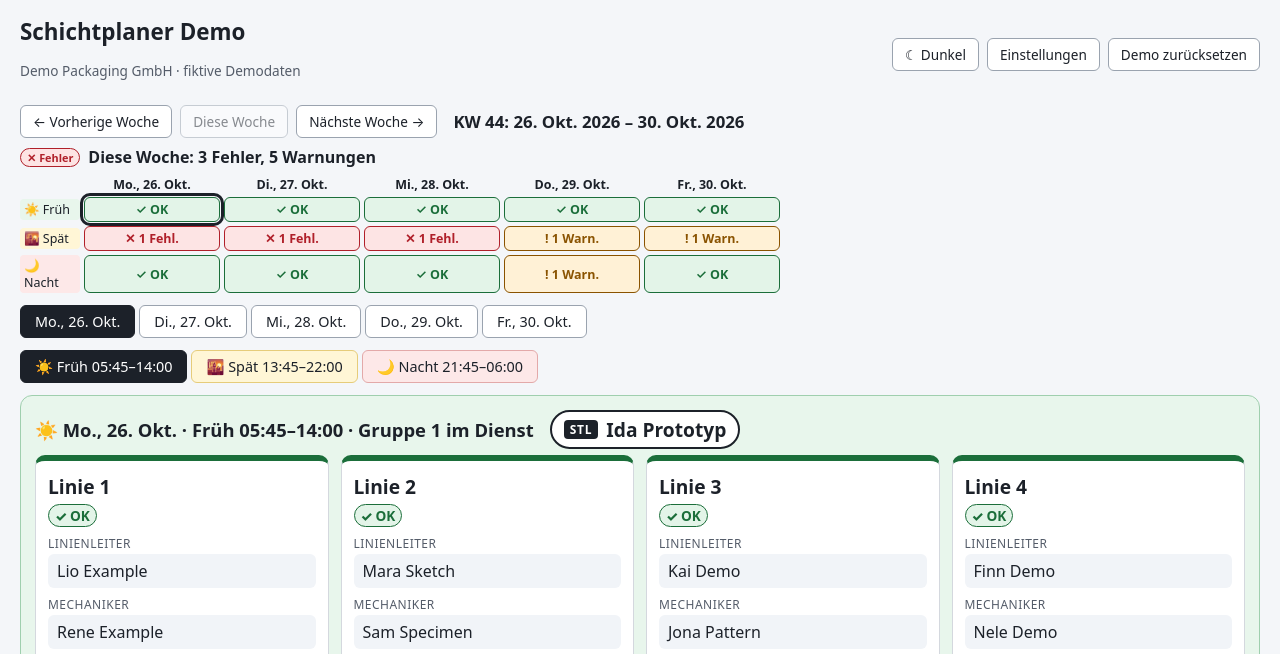
Test: empty slots and cover › reset clears accepted covers and closes the panel
This screenshot has width=1280, height=654.
Click the button with aria-label ": Fehler," at (152, 239), box x1=84 y1=226 x2=220 y2=251
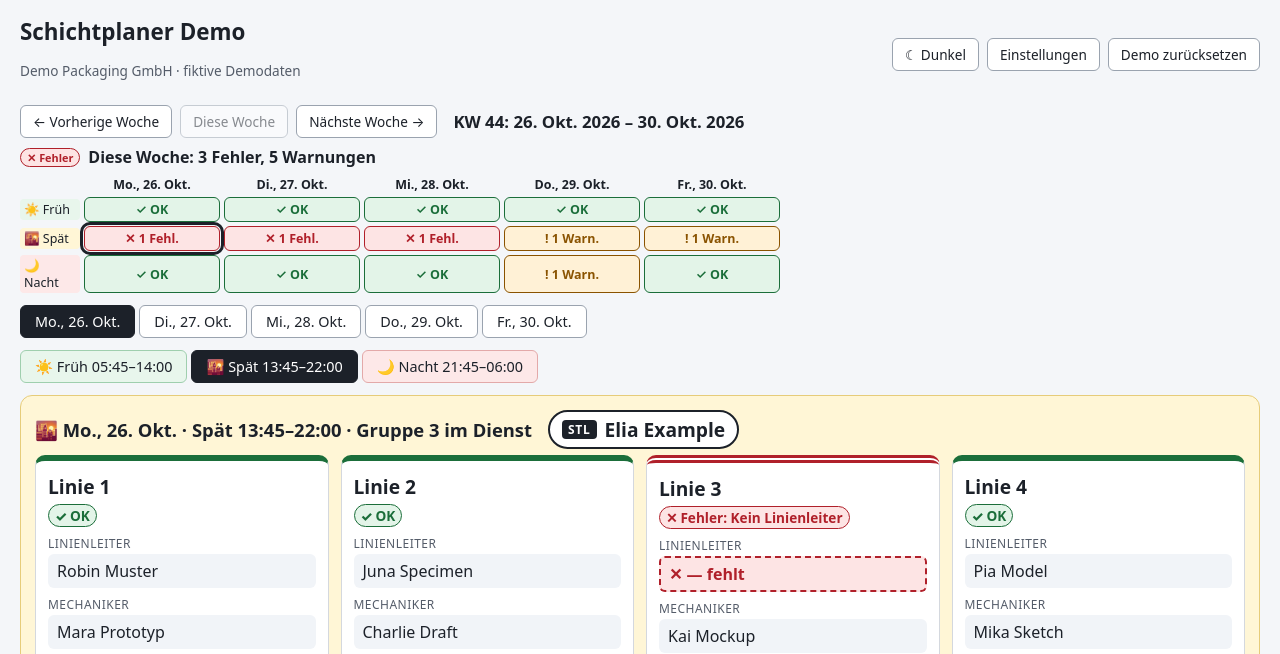
Click the button with aria-label "Vertretung finden" at (716, 574), box x1=659 y1=556 x2=926 y2=592
(page scrolled)
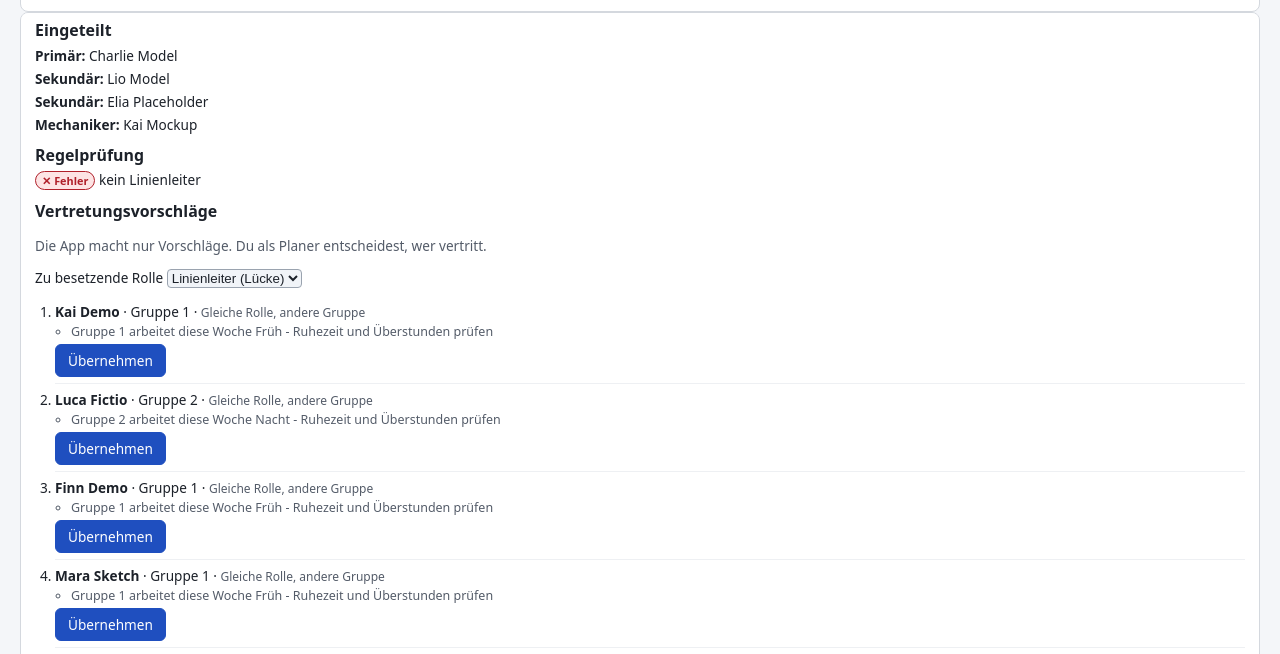
Click the button " übernehmen" below "Kai Demo" at (110, 360), box x1=55 y1=344 x2=166 y2=377
(page scrolled)
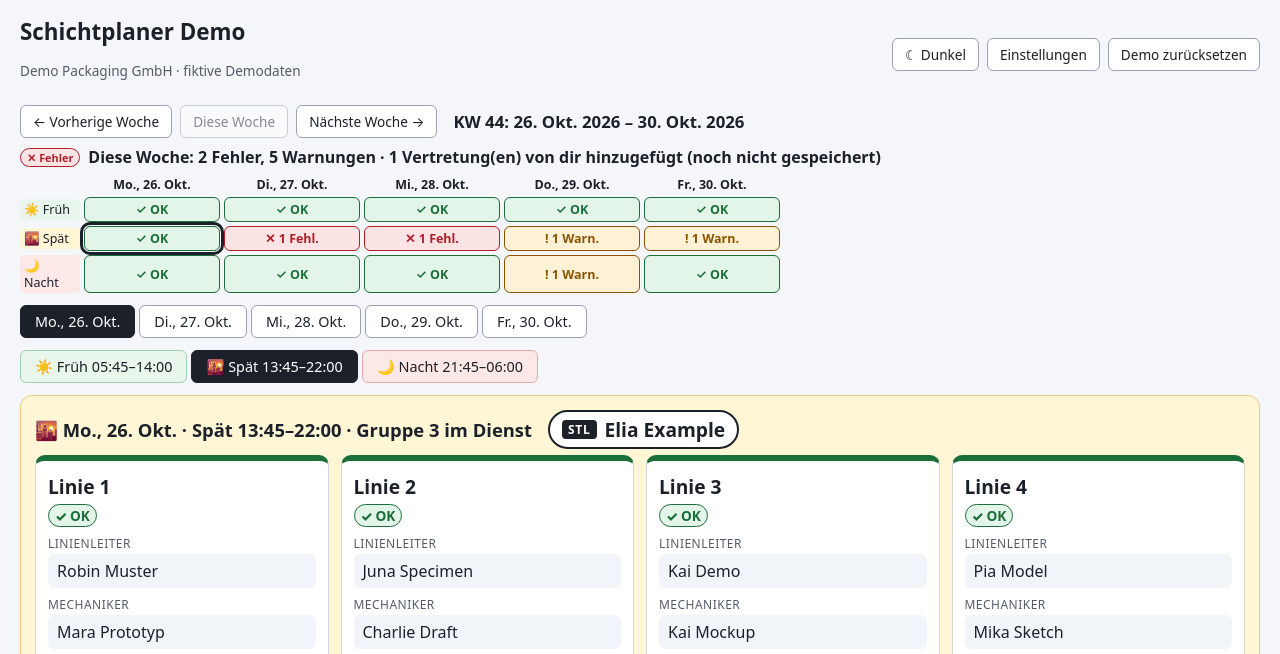
Click the button "Demo zurücksetzen" at (1184, 55), box x1=1108 y1=38 x2=1260 y2=71
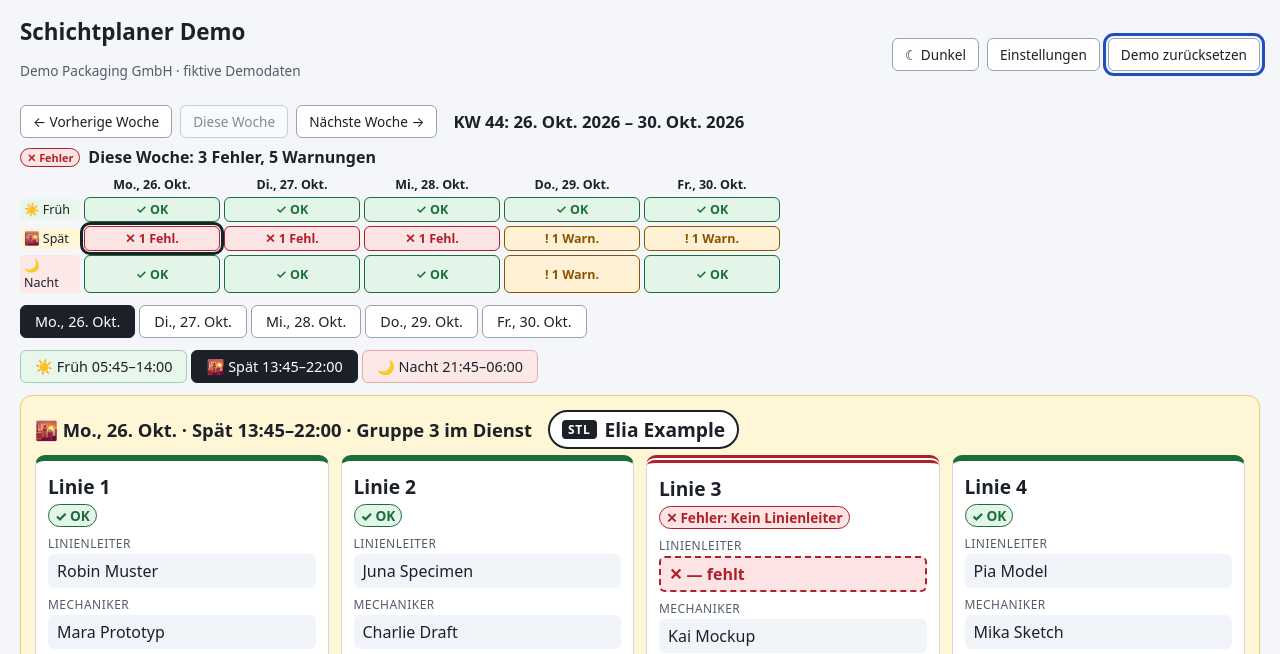
Expected: the text "von dir hinzugefügt" is gone
